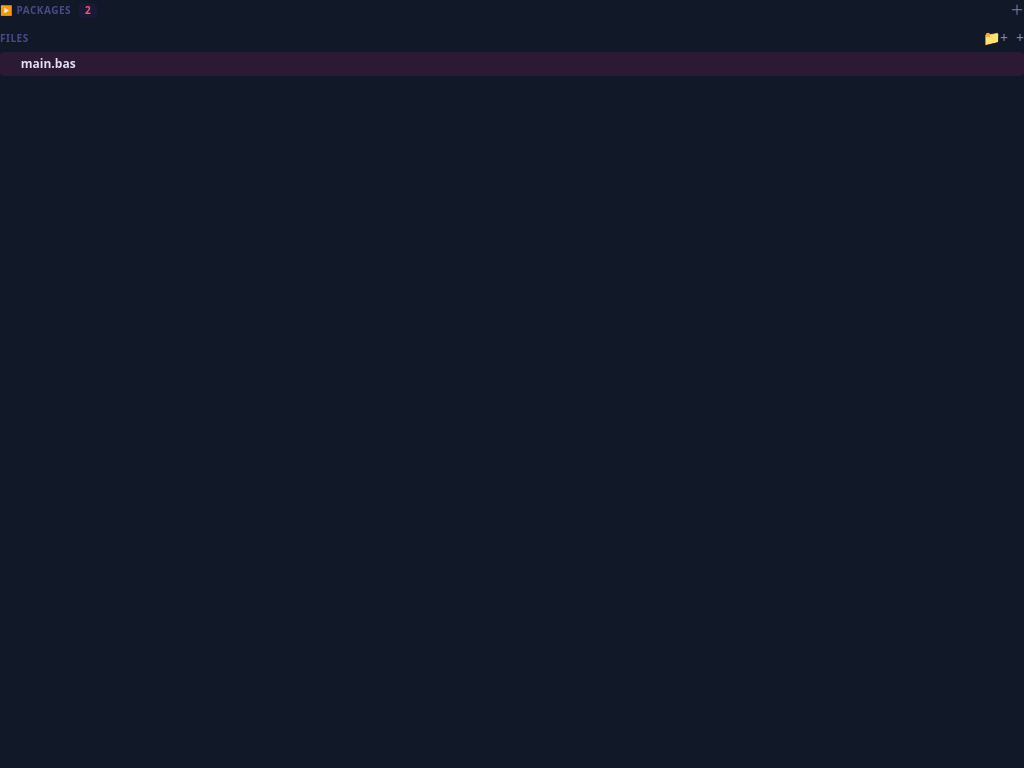
Test: rejects a filename with an underscore
The image size is (1024, 768).
Click the button "+" at (1020, 38), box top-left (1016, 28), bottom-right (1023, 48)
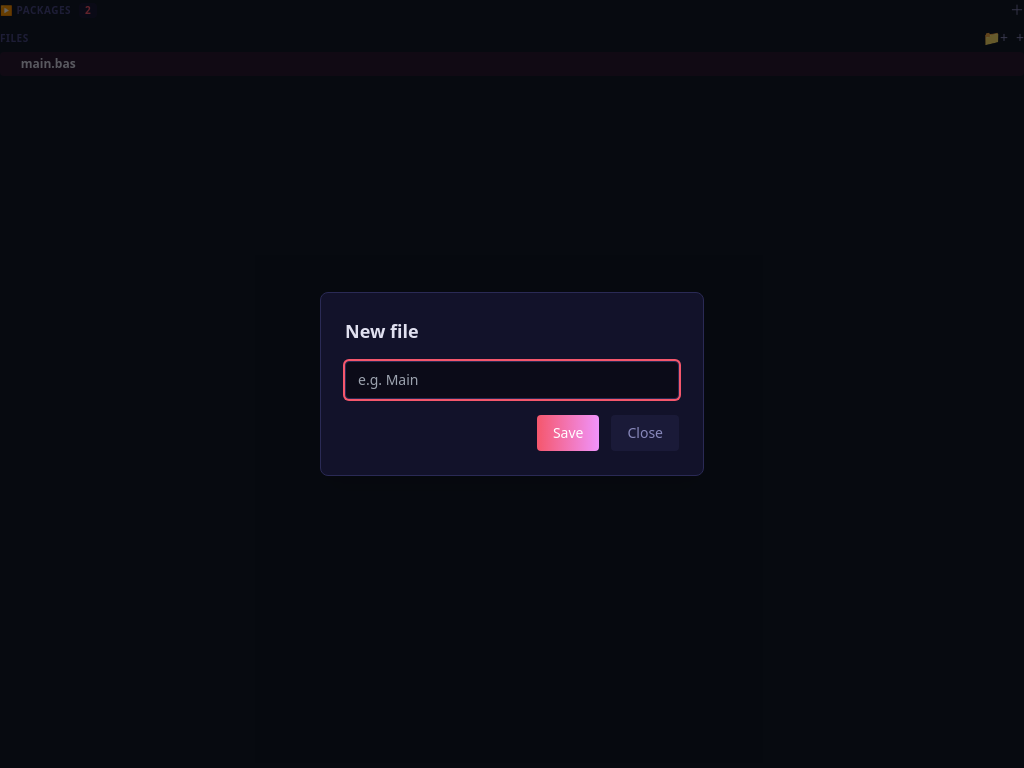
Type "my_file" into the field at (512, 380), box top-left (345, 361), bottom-right (679, 399)
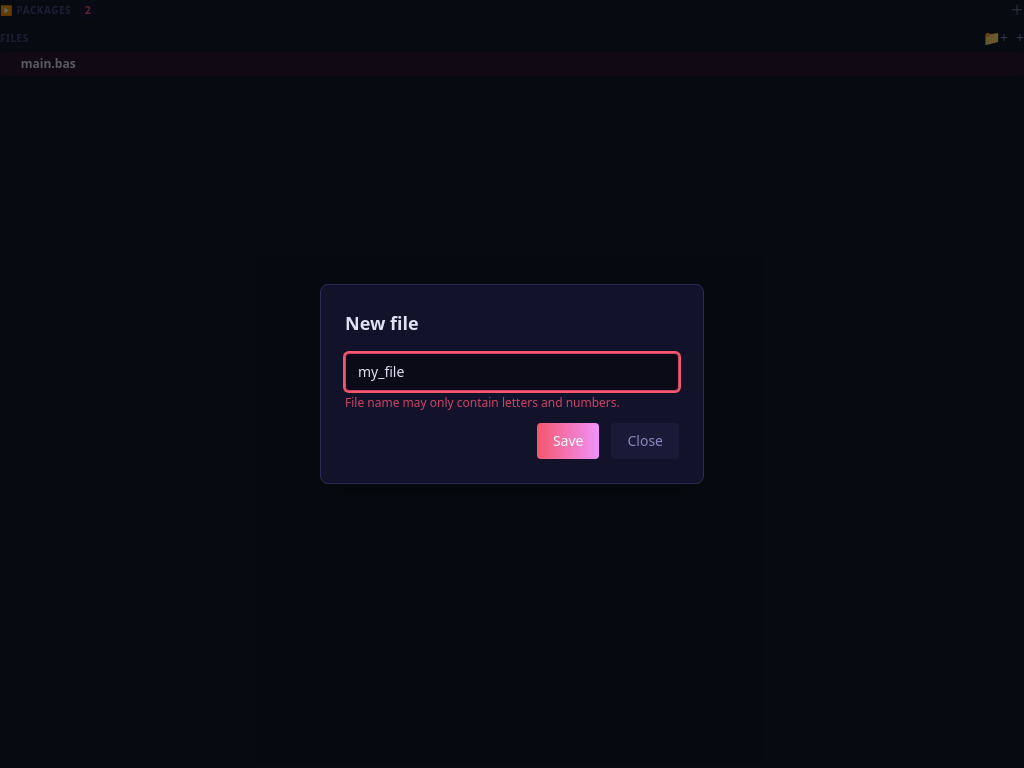
Check: the text "File name may only contain letters and numbers." is shown, box top-left (345, 394), bottom-right (620, 411)
